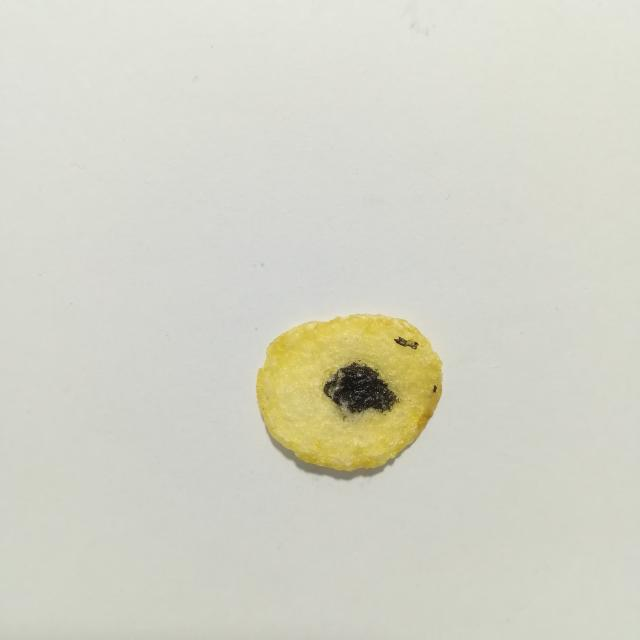chip: (256, 315, 442, 471)
damaged: (323, 363, 397, 413), (394, 337, 418, 349), (432, 385, 437, 393)
semi-damaged: (334, 403, 381, 422)
